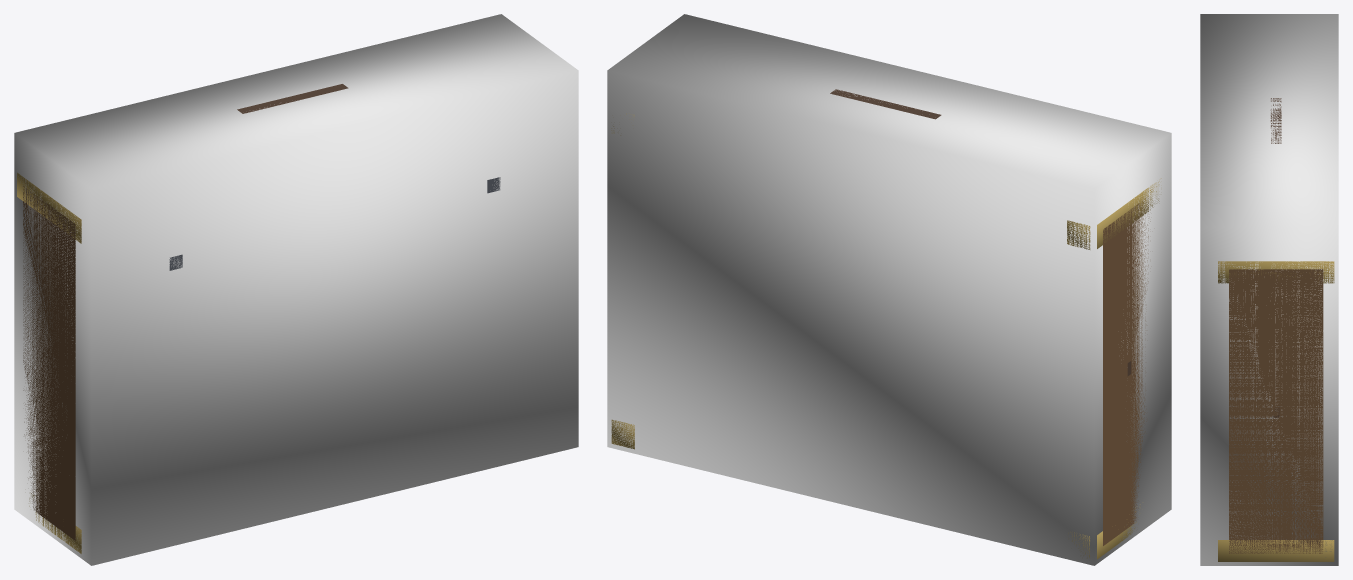
Rendered from item_briefcase_ground.glb.
The picture shows the model from 3 angles, left to right: view 1: azimuth 30°, elevation 25°; view 2: azimuth 150°, elevation 25°; view 3: azimuth 270°, elevation 25°; orthographic projection. The views are drawn at different scales.
Visible parts, largest first — view 1: briefcase_ground-convcol, briefcase_ground; view 2: briefcase_ground-convcol, briefcase_ground; view 3: briefcase_ground-convcol, briefcase_ground.
Boxes of the visible parts, box(x1,y1,x2,y2) form: briefcase_ground-convcol: box(14, 14, 578, 565); briefcase_ground: box(17, 84, 500, 553); briefcase_ground-convcol: box(607, 14, 1171, 565); briefcase_ground: box(611, 89, 1161, 559); briefcase_ground-convcol: box(1200, 14, 1338, 565); briefcase_ground: box(1218, 98, 1334, 561).
Size of the model in its own units: 0.46 by 0.34 by 0.126.
